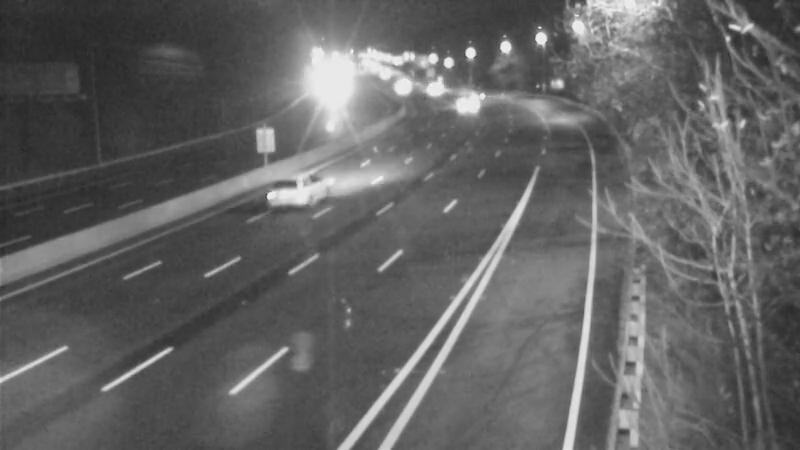vehicle: (245, 151, 325, 231), (376, 63, 426, 113), (408, 64, 458, 114), (451, 69, 501, 119), (439, 79, 489, 129), (302, 64, 352, 114)
